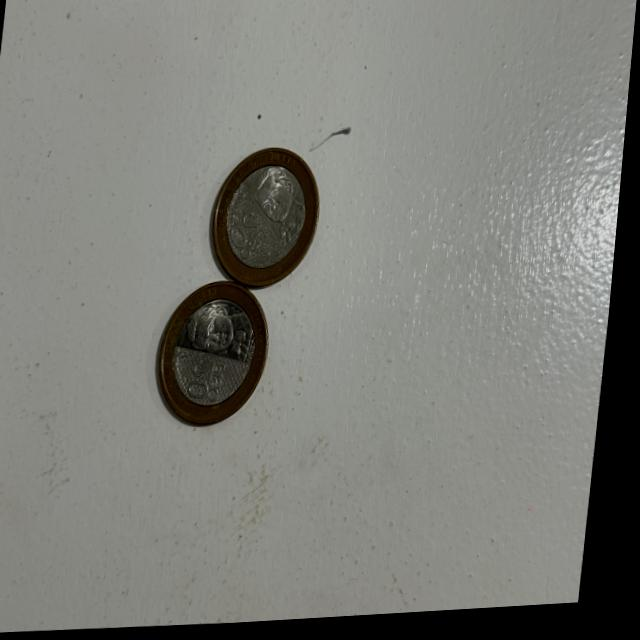20_New_Front: (186, 350, 240, 407), (226, 208, 275, 269)
